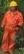gloves: (0, 0, 12, 13), (0, 8, 6, 15)
hard-hat: (0, 18, 8, 32)
ppe-suit: (0, 0, 12, 52)
vest: (0, 0, 12, 27)
